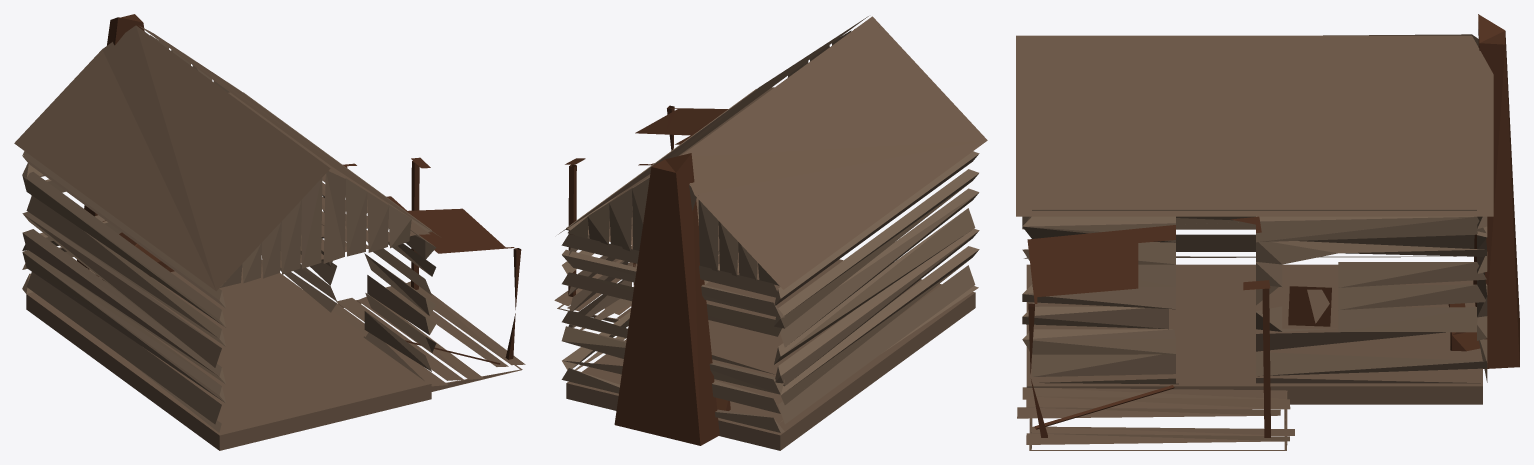
File: ruined-cabin.access-v6.lod2.glb
The picture shows the model from 3 angles, left to right: view 1: azimuth 30°, elevation 25°; view 2: azimuth 150°, elevation 25°; view 3: azimuth 270°, elevation 25°; orthographic projection. The views are drawn at different scales.
Parts seen in each view (by area): view 1: Foundation.003_2.001_0; view 2: Foundation.003_2.001_0; view 3: Foundation.003_2.001_0.
Boxes of the visible parts, x1,y1,x2,y2 form: Foundation.003_2.001_0: (14, 14, 525, 450); Foundation.003_2.001_0: (554, 16, 987, 450); Foundation.003_2.001_0: (1016, 14, 1519, 450).
Size of the model in its own units: 5.08 by 4.2 by 5.98.
